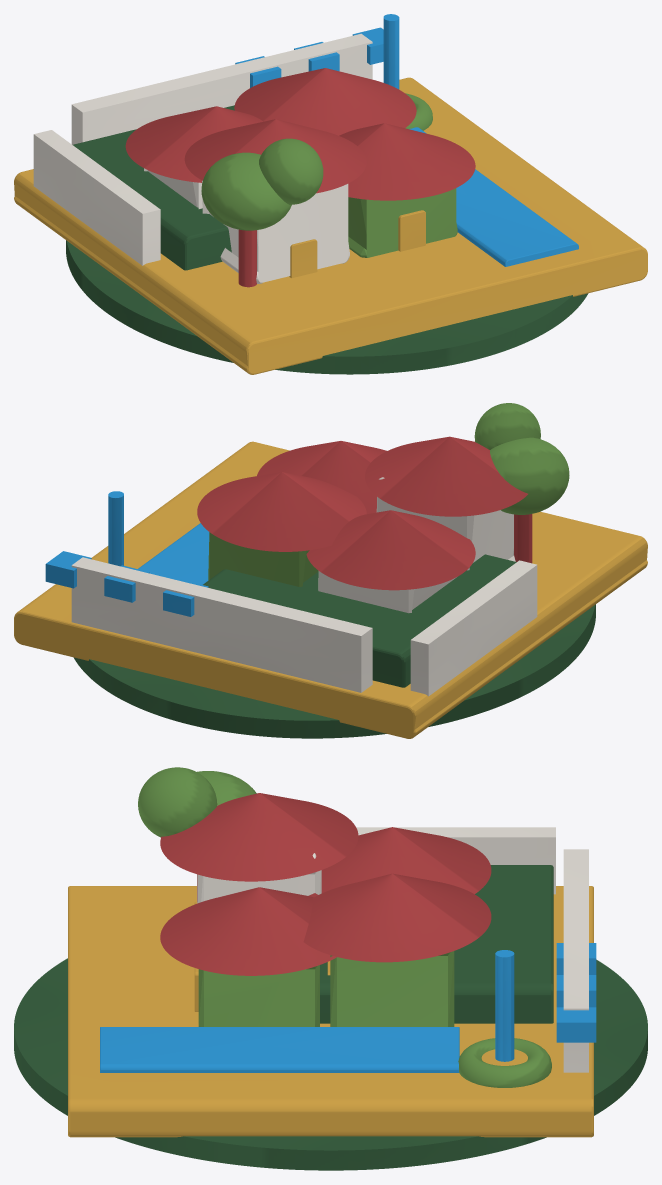
File: 0737_先秦图鉴_河姆渡聚落.glb
The picture shows the model from 3 angles, top to bottom: view 1: azimuth 30°, elevation 25°; view 2: azimuth 150°, elevation 25°; view 3: azimuth 270°, elevation 25°; orthographic projection. The views are drawn at different scales.
Parts seen in each view (by area): view 1: card_0737; view 2: card_0737; view 3: card_0737.
Boxes of the visible parts, bbox=[...] form: card_0737: bbox=[14, 14, 647, 374]; card_0737: bbox=[14, 403, 647, 738]; card_0737: bbox=[14, 767, 647, 1170].
Bounding box in the file's own units: 2.45 × 1 × 2.65.
